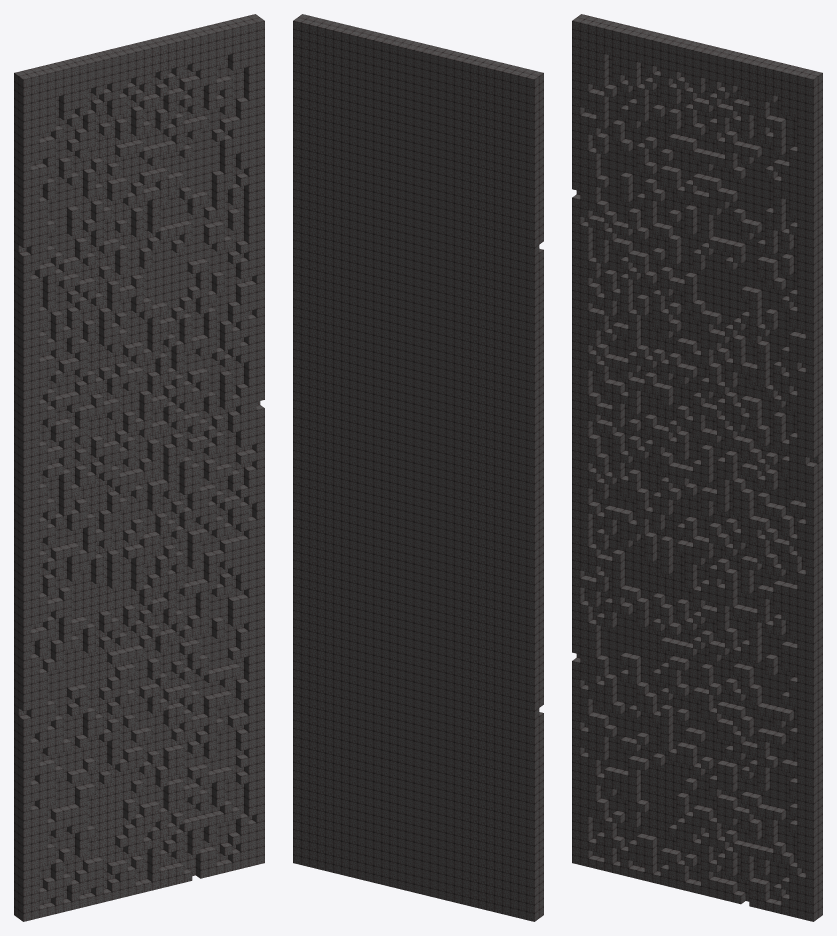
Rendered from wall.obj.
3 views of the same model, side by side, from view 1: azimuth 30°, elevation 25°; view 2: azimuth 150°, elevation 25°; view 3: azimuth 330°, elevation 25° (orthographic).
Visible parts, largest first — view 1: Cube.002; view 2: Cube.002; view 3: Cube.002.
Part boxes in pixels (x1=…): Cube.002: x1=14, y1=14, x2=264, y2=921; Cube.002: x1=293, y1=14, x2=543, y2=921; Cube.002: x1=572, y1=14, x2=822, y2=921.
Size of the model in its own units: 30 by 100 by 2.
1 material, 1 textured.
